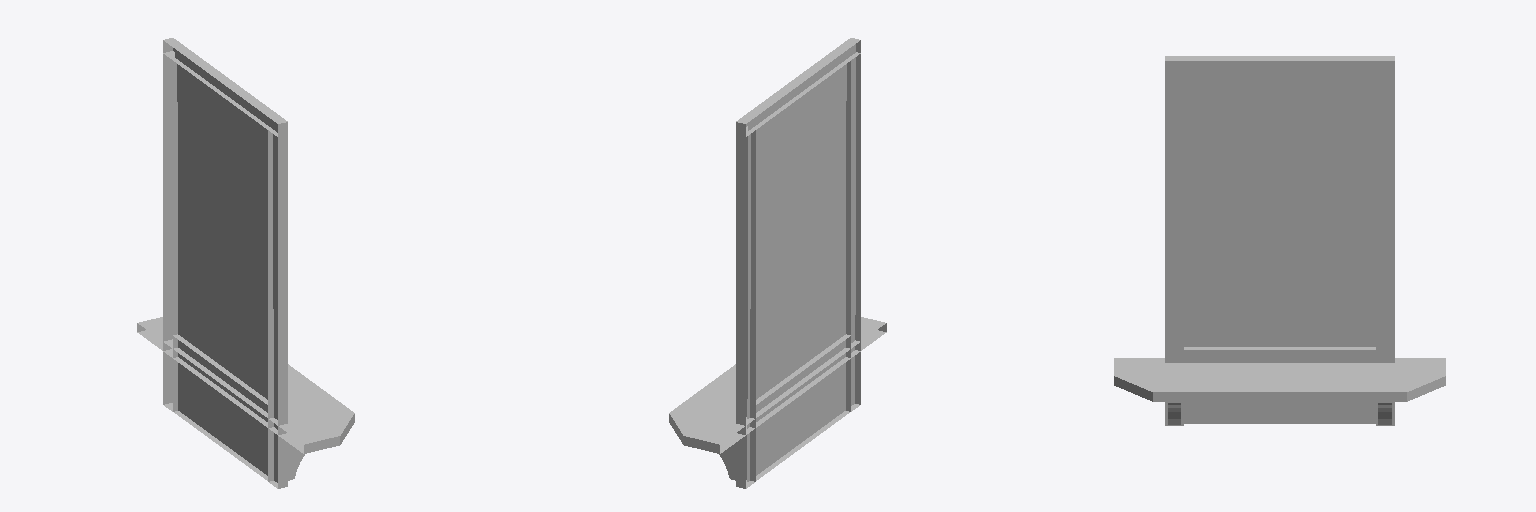
Rendered from Mirror_shelf_a.obj.
3 views of the same model, side by side, from view 1: azimuth 30°, elevation 25°; view 2: azimuth 150°, elevation 25°; view 3: azimuth 270°, elevation 25° (orthographic).
Parts seen in each view (by area): view 1: Mirror_Shelf_a_LOD0_mirror03.001; view 2: Mirror_Shelf_a_LOD0_mirror03.001; view 3: Mirror_Shelf_a_LOD0_mirror03.001.
Boxes of the visible parts, x1,y1,x2,y2 form: Mirror_Shelf_a_LOD0_mirror03.001: [137, 38, 354, 488]; Mirror_Shelf_a_LOD0_mirror03.001: [669, 38, 886, 488]; Mirror_Shelf_a_LOD0_mirror03.001: [1114, 56, 1445, 425].
Bounding box in the file's own units: 0.1993 × 0.9809 × 0.8109.